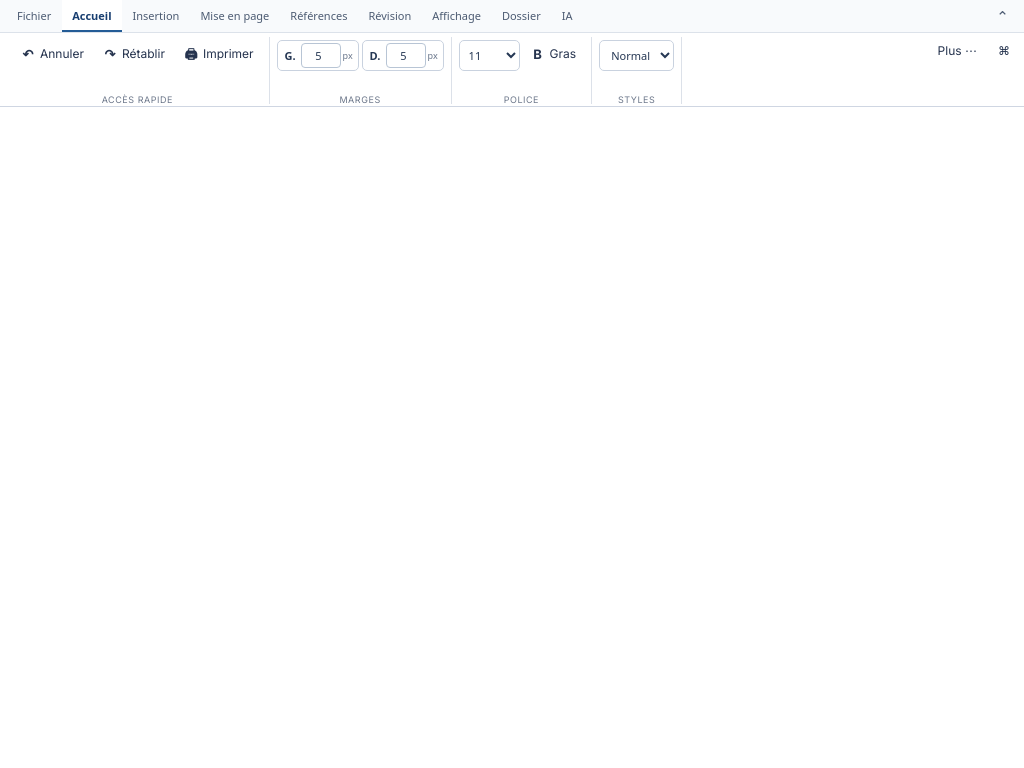
Test: ResponsiveRibbon › la palette rend les commandes repliées recherchables au clavier
This screenshot has width=1024, height=768.
Press P
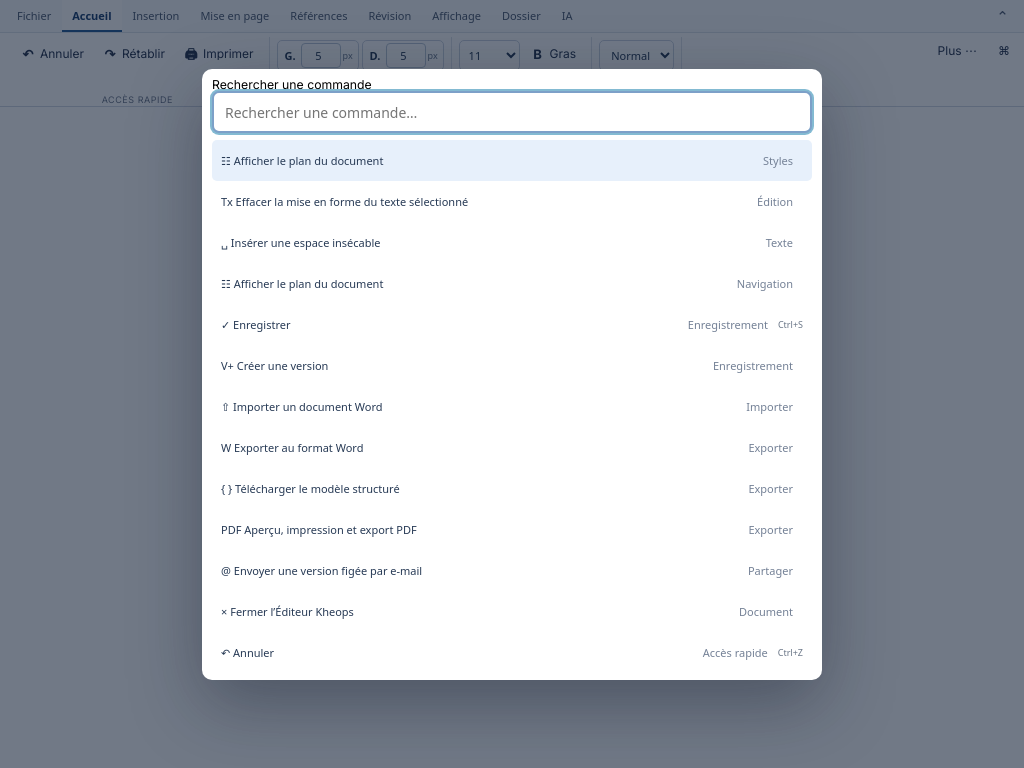
Type "stratégie juridique" into the field labelled "Rechercher une commande" at coordinates (512, 112), box [212,91,812,133]
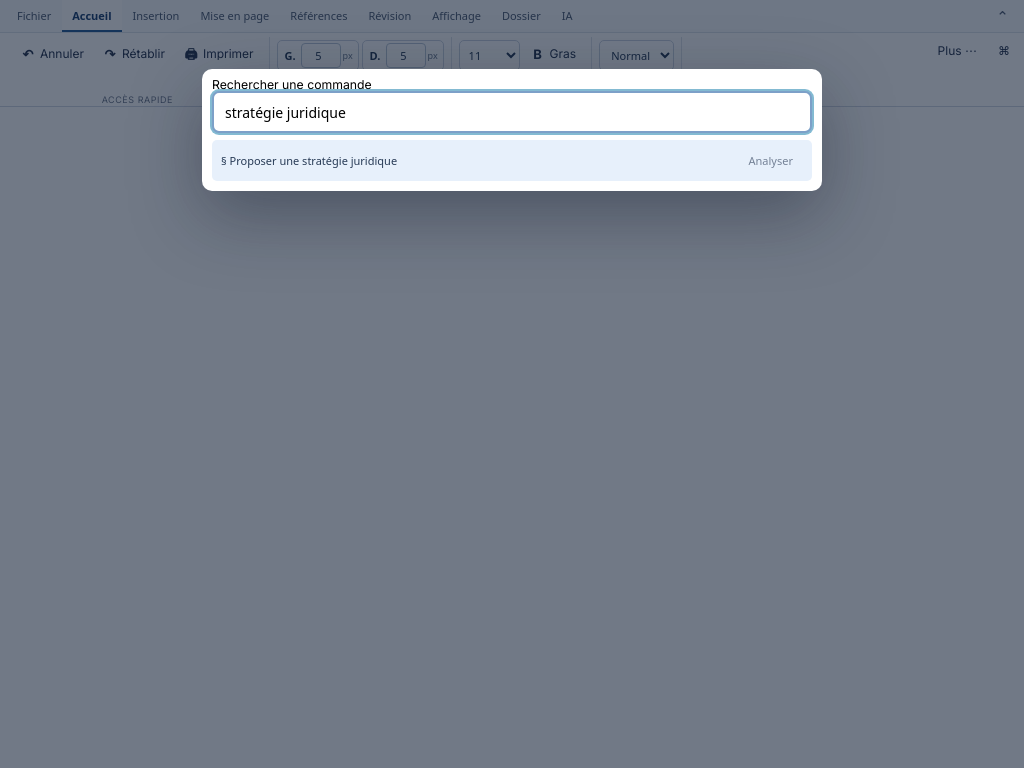
expect the option "§ Proposer une stratégie juridique Analyser" is shown: met, box [212,140,812,181]
